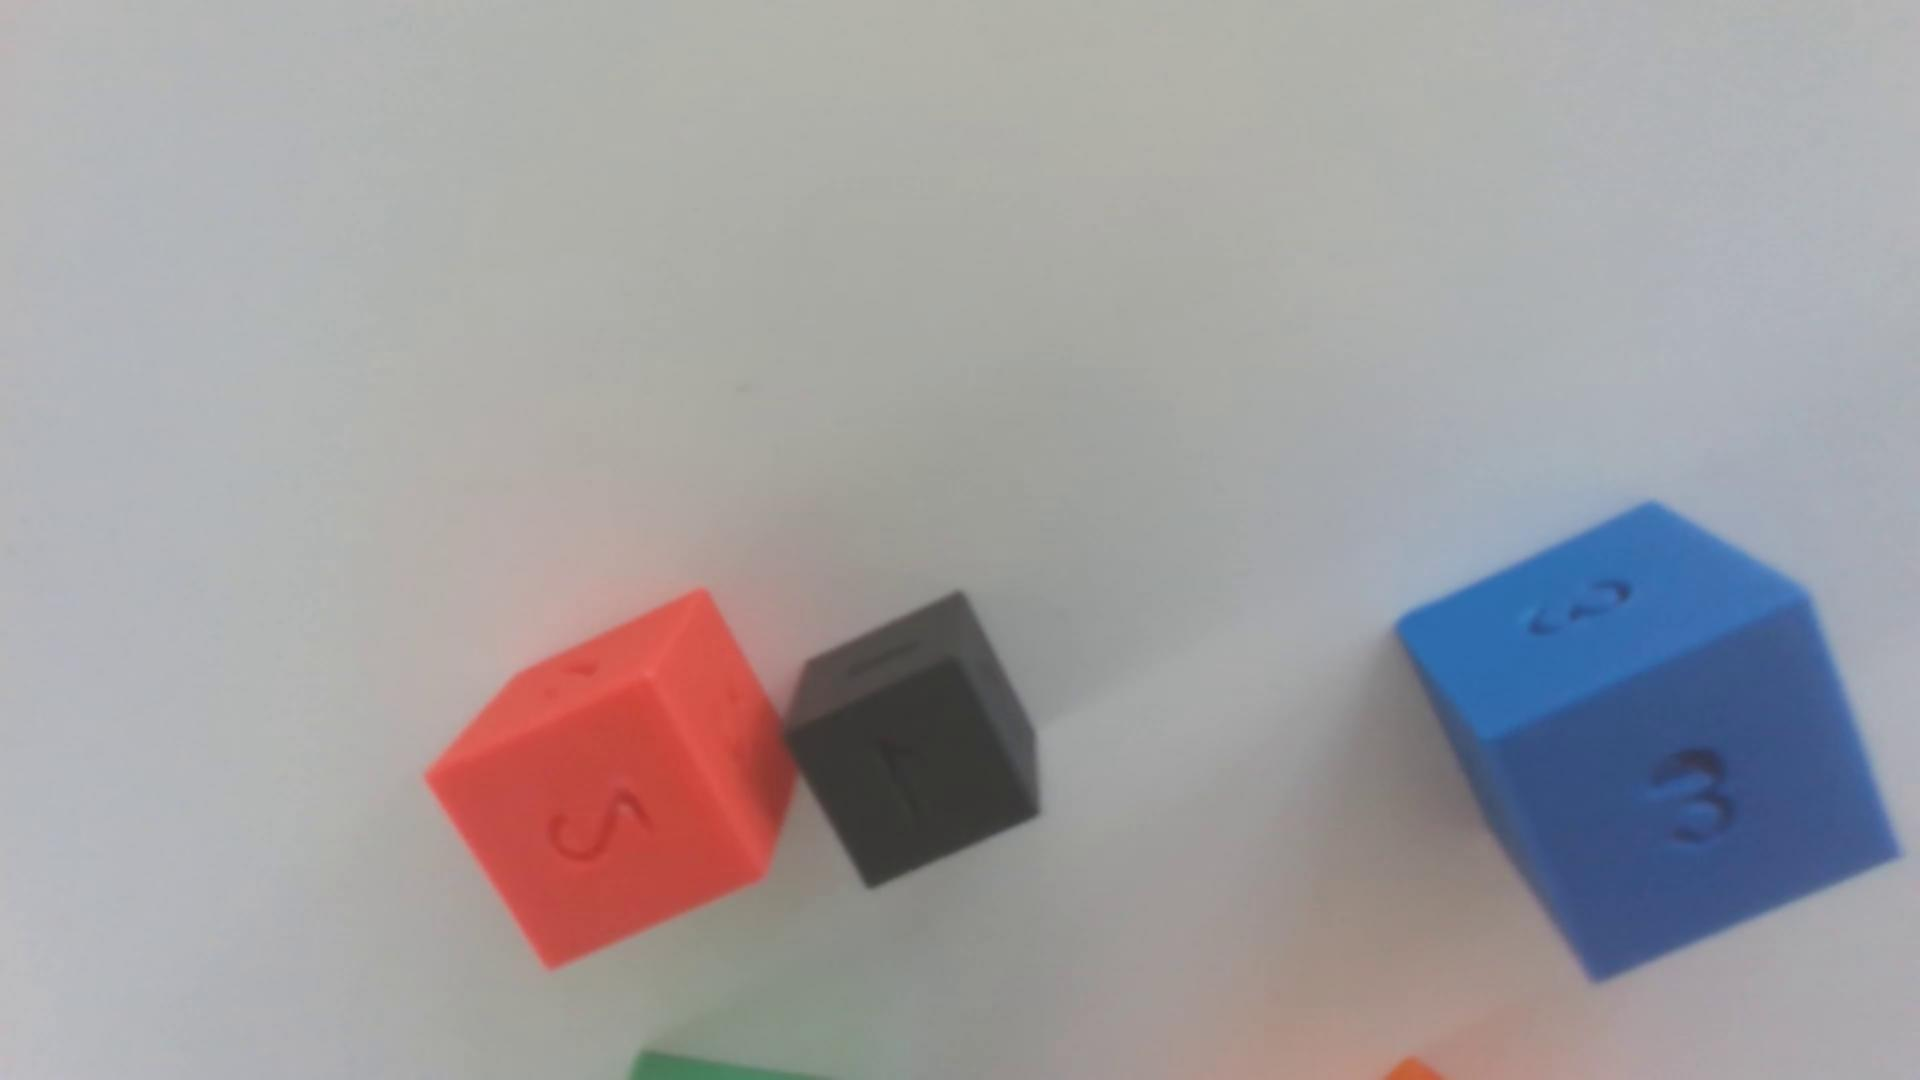black: (785, 593, 1042, 889)
blue: (1396, 505, 1899, 981)
green: (629, 1050, 814, 1080)
orange: (1385, 1058, 1447, 1080)
red: (426, 591, 796, 969)
